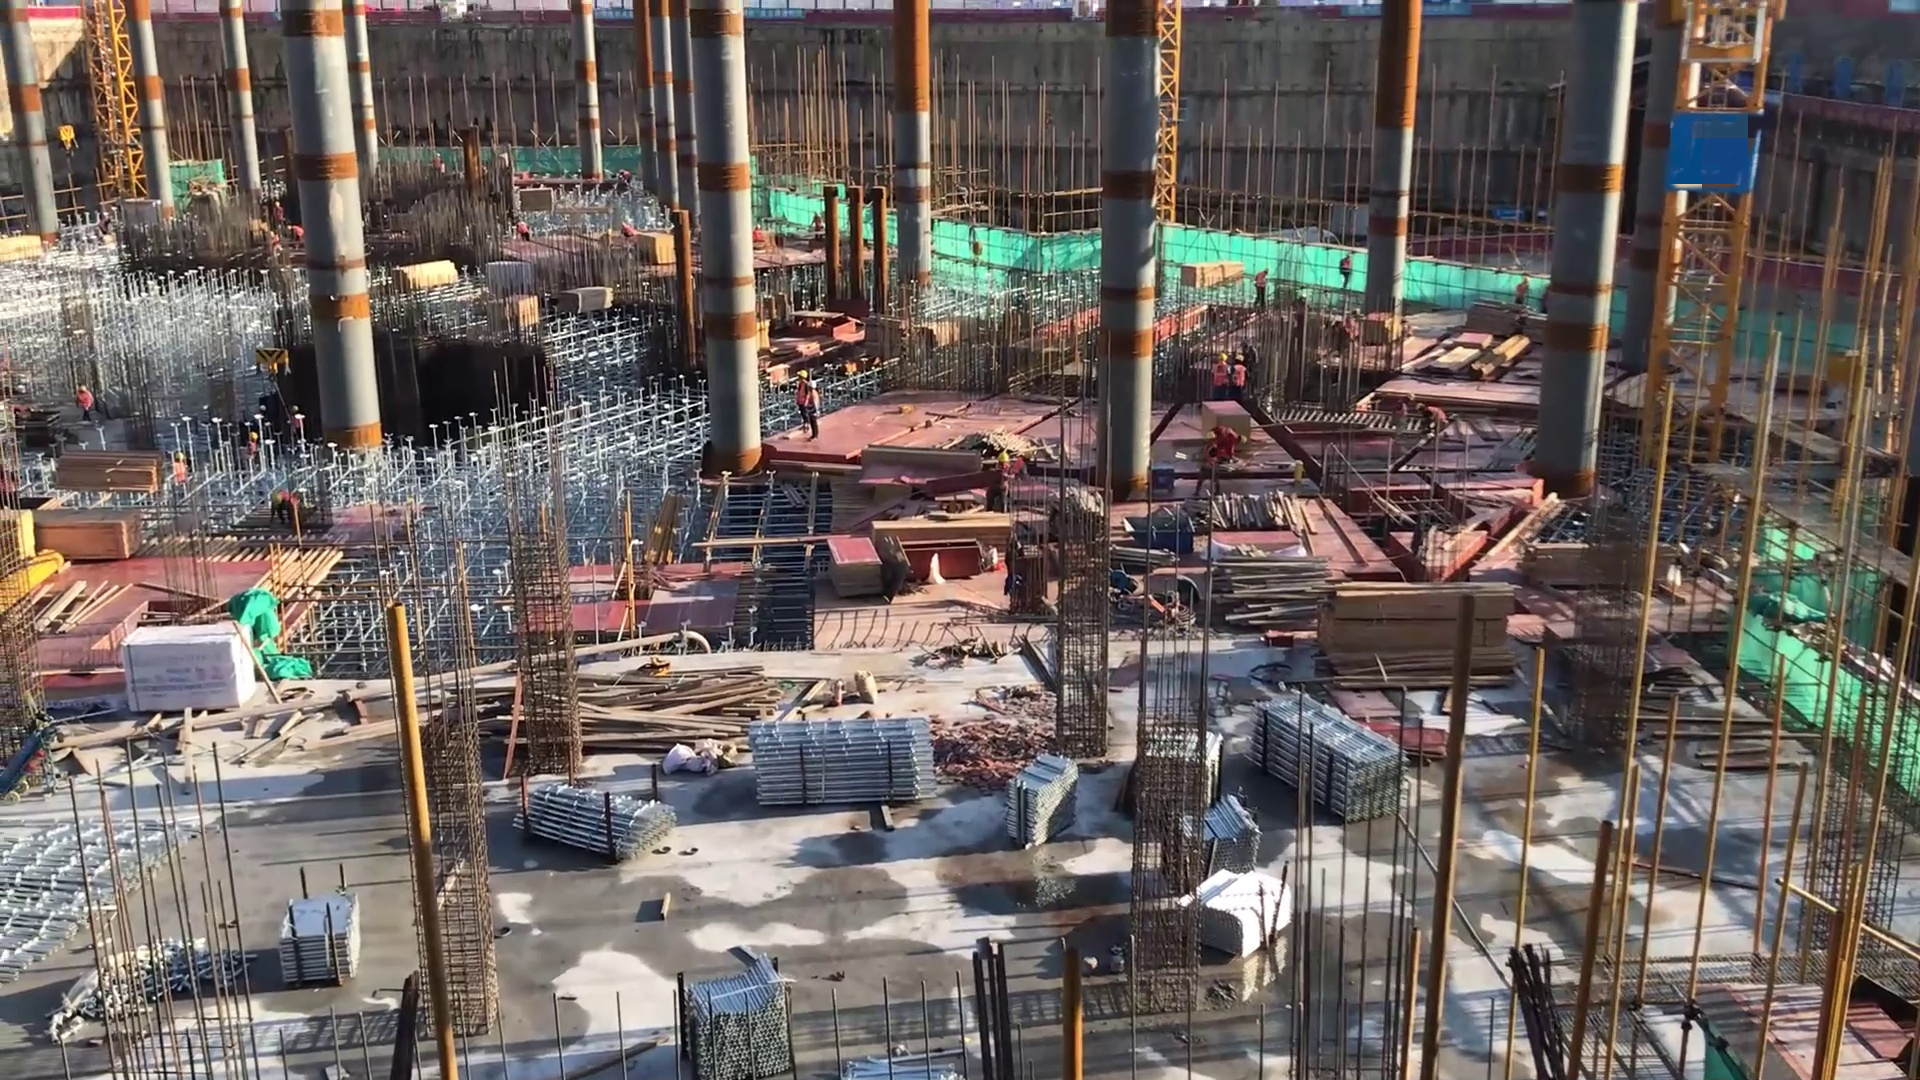helmet: (1413, 400, 1428, 414), (271, 489, 285, 505), (795, 368, 812, 380), (1236, 431, 1248, 449), (1217, 349, 1230, 363), (247, 430, 259, 444), (807, 378, 820, 390), (1235, 354, 1247, 366), (174, 452, 187, 463), (79, 380, 88, 394), (1260, 267, 1272, 275), (290, 405, 299, 416), (274, 201, 281, 207), (286, 224, 292, 230)
person: (1203, 421, 1247, 464), (1413, 402, 1449, 443), (986, 448, 1009, 512), (1006, 445, 1031, 495), (804, 378, 824, 441), (270, 487, 299, 529), (72, 381, 96, 429), (1231, 351, 1251, 405), (173, 452, 195, 498), (289, 403, 311, 448), (792, 368, 809, 431), (1254, 265, 1273, 319), (1335, 250, 1355, 295), (1213, 348, 1229, 405), (1514, 274, 1532, 316), (270, 198, 287, 231), (246, 431, 258, 479), (617, 219, 635, 244), (515, 220, 536, 243), (287, 224, 306, 248), (432, 151, 445, 183)
vest: (1212, 359, 1229, 394), (171, 463, 192, 488), (806, 389, 821, 419), (1232, 363, 1248, 391), (77, 391, 94, 413)
